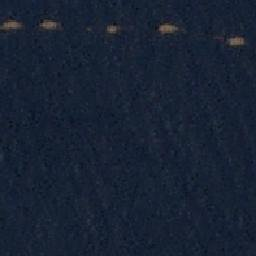debris: (1, 19, 24, 32), (228, 33, 246, 49), (40, 20, 63, 30), (159, 22, 177, 33), (105, 25, 116, 33)
